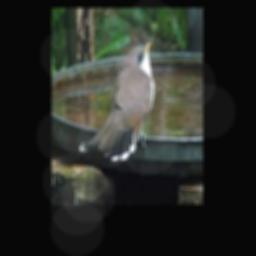Cuckoo: (80, 36, 156, 160)
